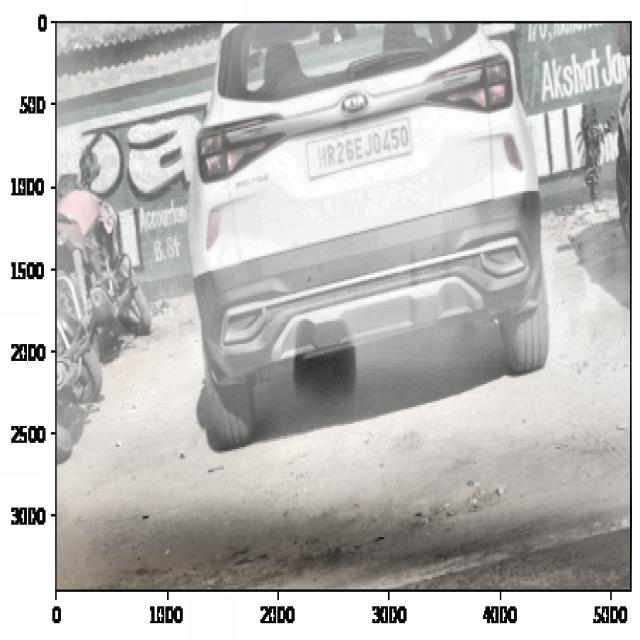license_plate: (307, 120, 411, 174)
